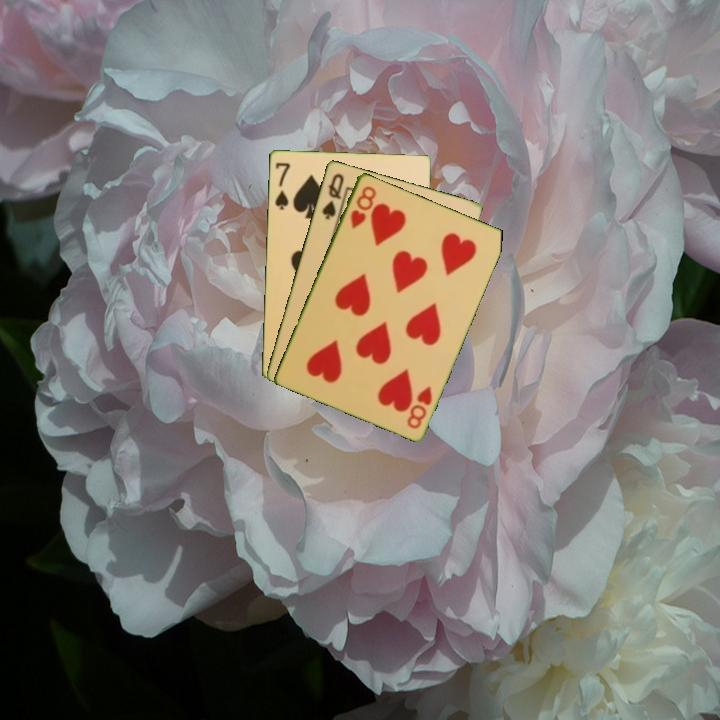7s: (271, 159, 292, 212)
8h: (347, 182, 379, 232), (403, 382, 435, 431)
Qs: (318, 169, 347, 222)
